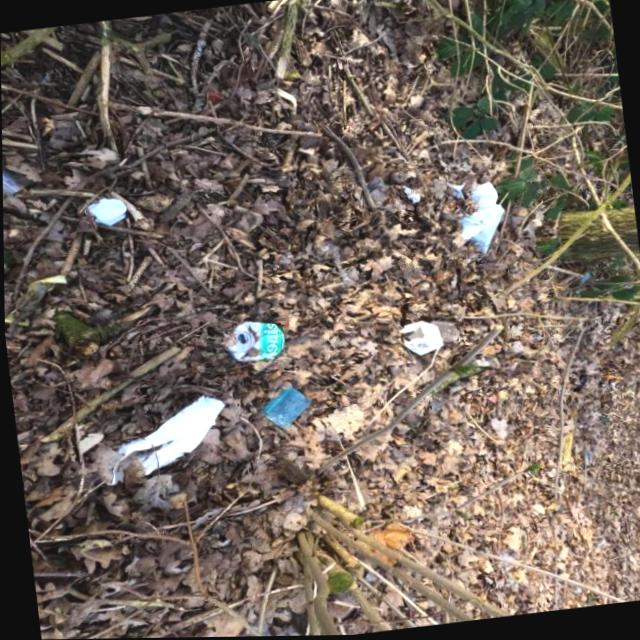Can-Metal: (218, 316, 287, 366)
Paper: (94, 391, 234, 485), (452, 179, 509, 261), (396, 317, 444, 358)
